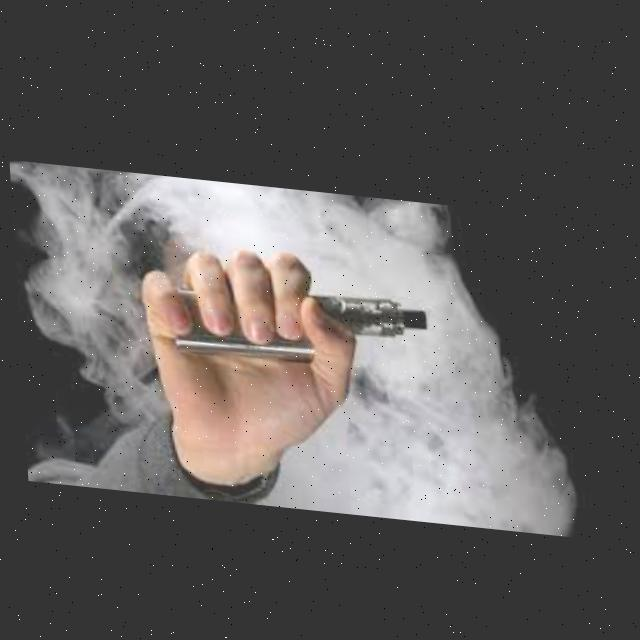vape: (168, 270, 427, 366)
